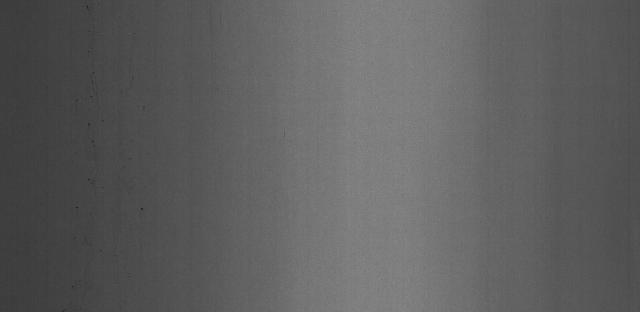inclusion: (85, 14, 100, 104), (76, 115, 99, 133), (132, 201, 153, 215)
